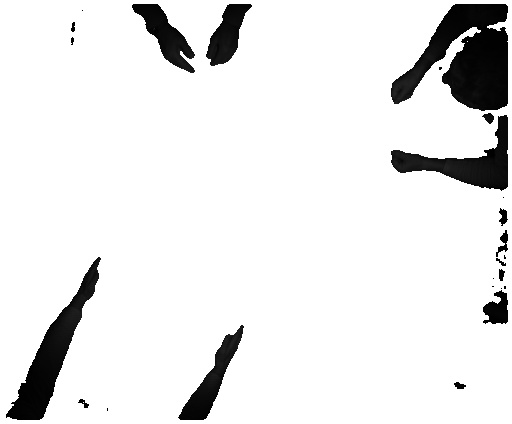fist: (384, 73, 417, 103), (384, 148, 420, 175)
hand: (144, 32, 199, 79), (206, 30, 247, 71)
spine: (217, 320, 247, 373), (76, 256, 103, 305)
